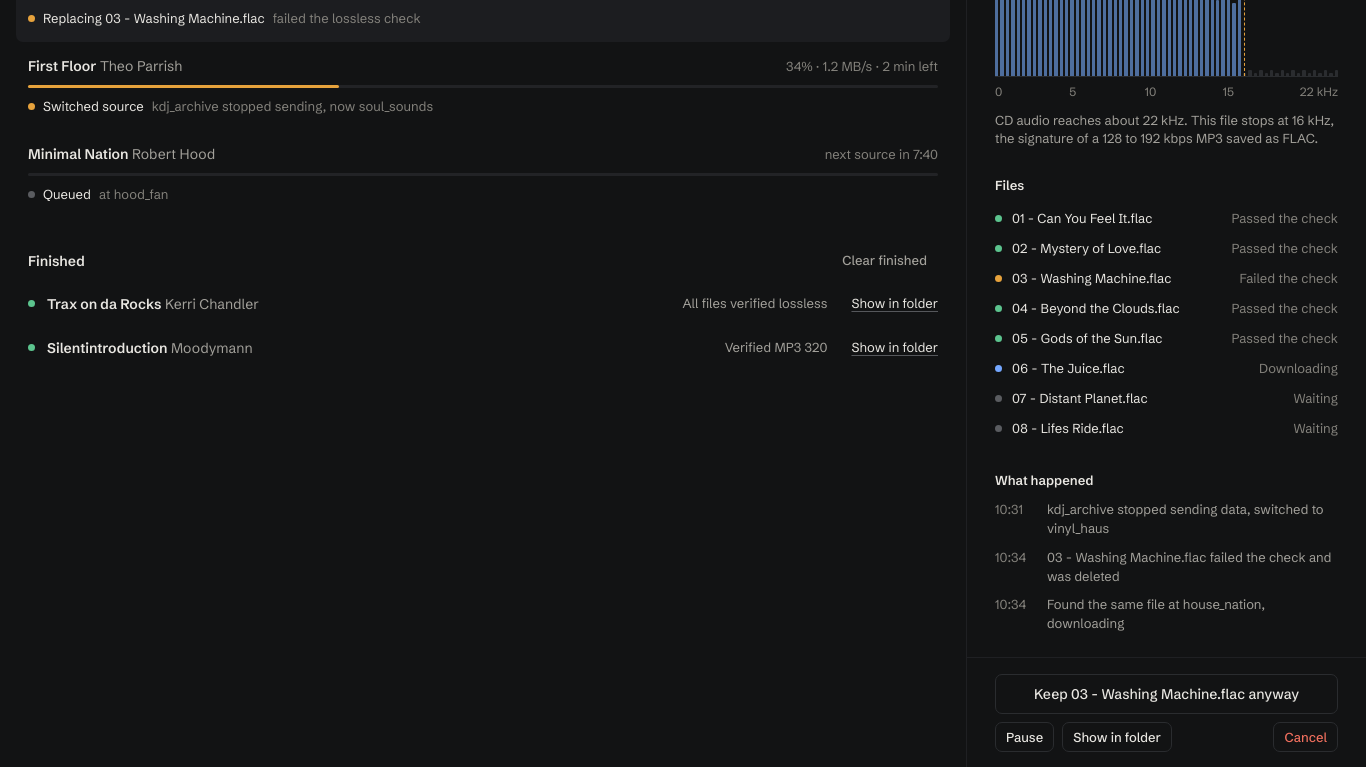
Test: JobDetail › shows a failed action inline
(page scrolled)
Click the button "Cancel" at (1306, 737), box [1274, 722, 1338, 752]
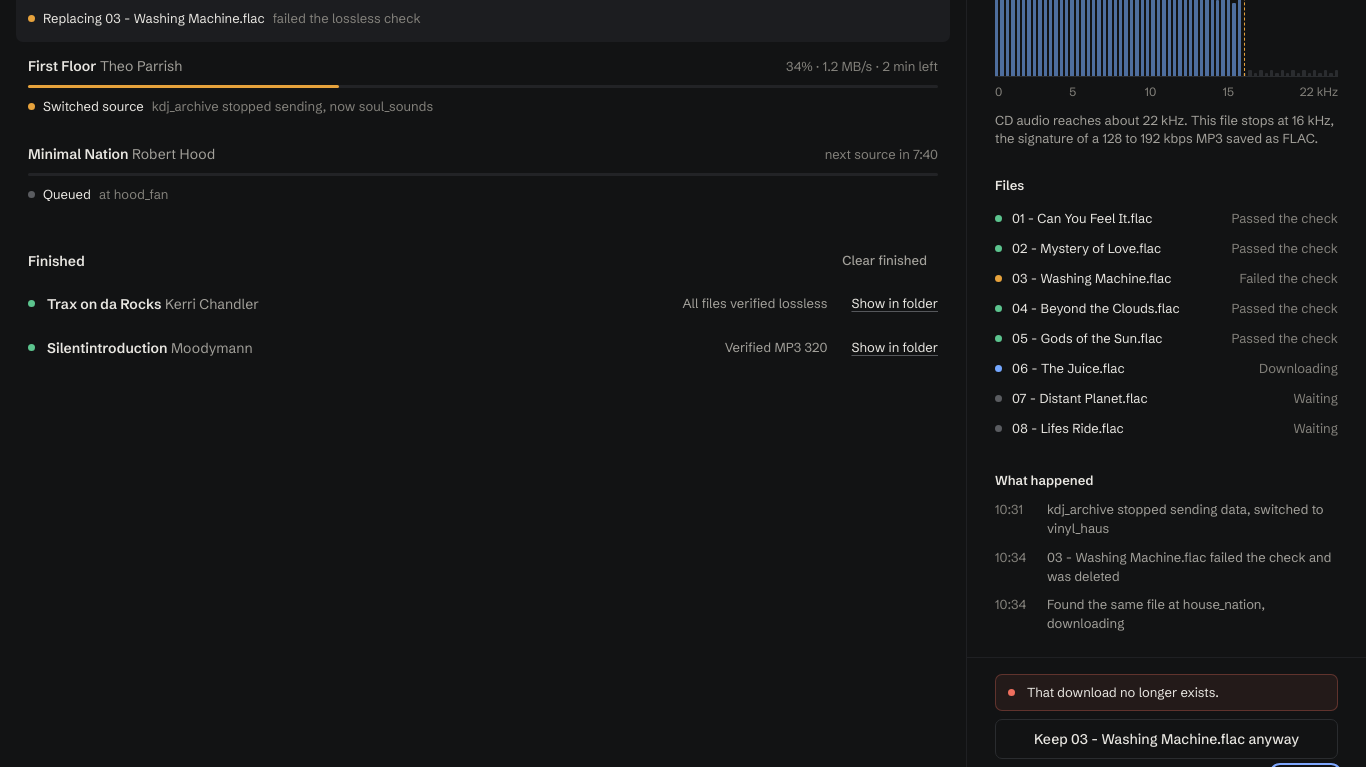
Expected: the message reads "That download no longer exists.", [1027, 684, 1219, 700]
